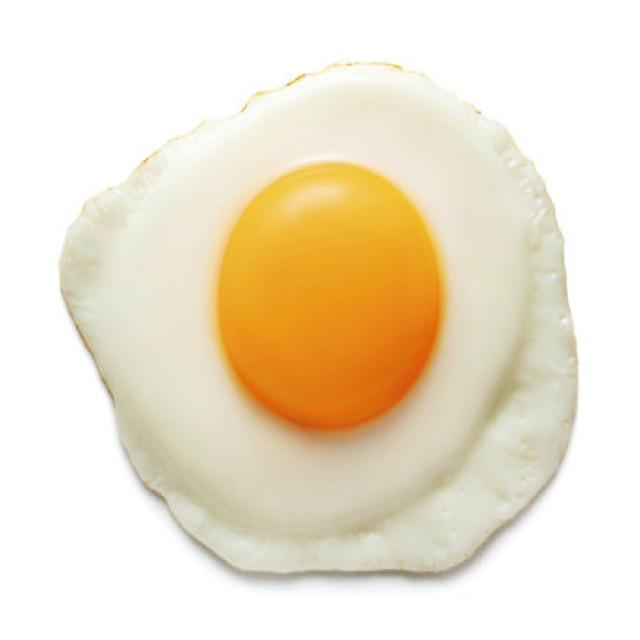Egg: (62, 65, 576, 571)
